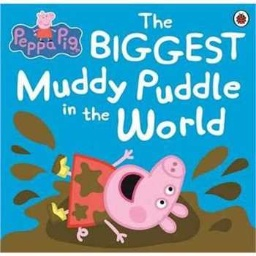Peppa: (48, 147, 193, 245)
